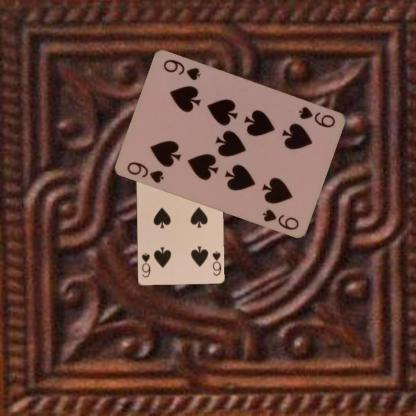6s: (210, 248, 222, 277)
9s: (296, 103, 337, 129), (125, 159, 166, 184)
